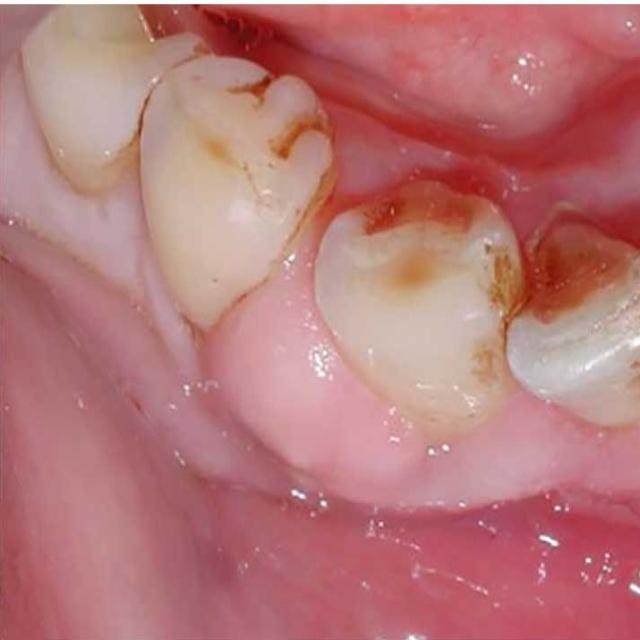abscess: (211, 311, 400, 538), (420, 427, 627, 556), (422, 16, 606, 154)
